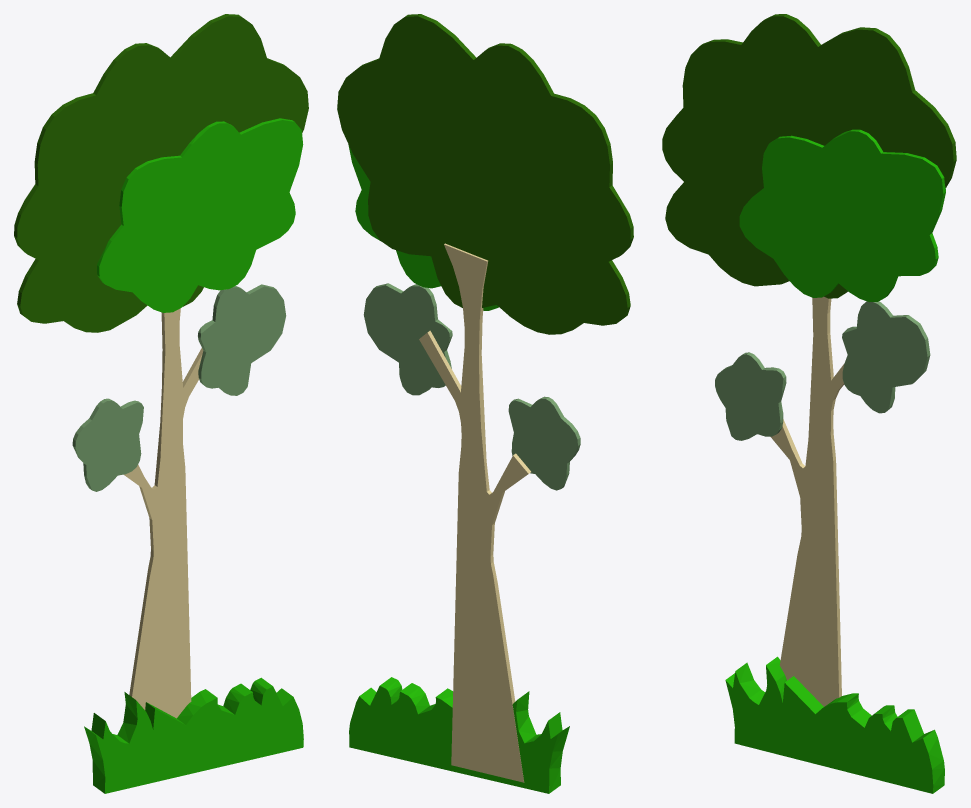
File: Tree.FBX
The picture shows the model from 3 angles, left to right: view 1: azimuth 30°, elevation 25°; view 2: azimuth 150°, elevation 25°; view 3: azimuth 330°, elevation 25°; orthographic projection.
Visible parts, largest first — view 1: tree; view 2: tree; view 3: tree.
Part boxes in pixels (box(x1,y1,x2,y2)): tree: box(14, 14, 308, 793); tree: box(337, 14, 633, 793); tree: box(662, 14, 956, 793).
Size of the model in its own units: 94.7 by 230 by 6.75.
Materials: 1 (1 with a texture image).
